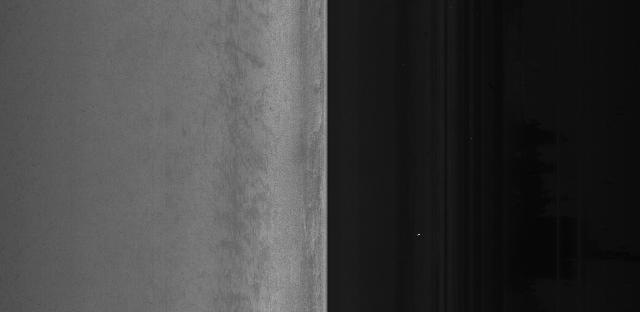silk_spot: (217, 113, 267, 206)
